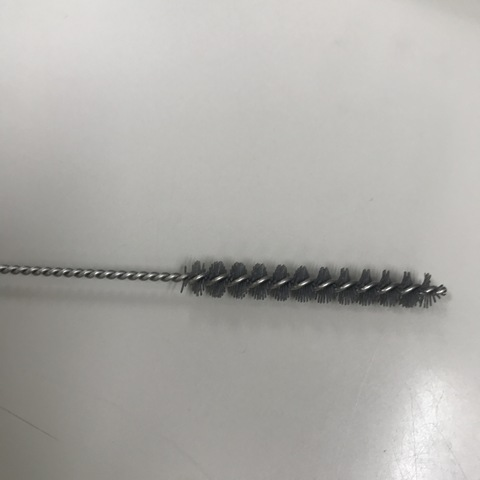Twist Brush-A: (1, 253, 446, 309)
